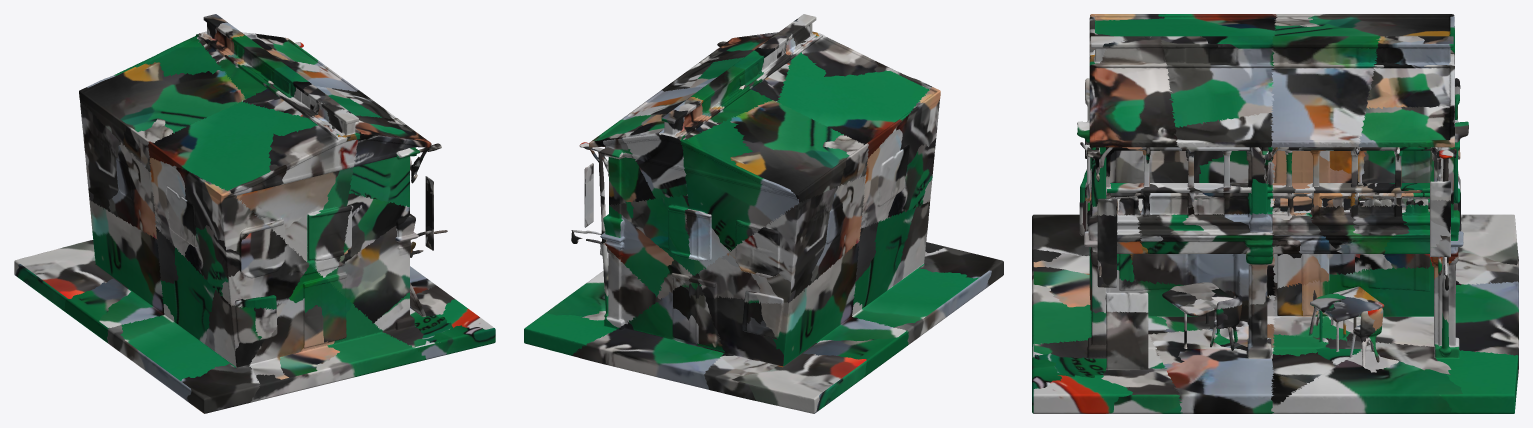
The model's file is NhaHoiAn.fbx.
3 views of the same model, side by side, from view 1: azimuth 30°, elevation 25°; view 2: azimuth 150°, elevation 25°; view 3: azimuth 270°, elevation 25° (orthographic). The views are drawn at different scales.
Visible parts, largest first — view 1: tripo_node_0e5f38fd-ea24-4416-ba28-e0b63cd12e13; view 2: tripo_node_0e5f38fd-ea24-4416-ba28-e0b63cd12e13; view 3: tripo_node_0e5f38fd-ea24-4416-ba28-e0b63cd12e13.
Part boxes in pixels (x1,y1,x2,y2): tripo_node_0e5f38fd-ea24-4416-ba28-e0b63cd12e13: (14, 14, 495, 413); tripo_node_0e5f38fd-ea24-4416-ba28-e0b63cd12e13: (524, 14, 1003, 413); tripo_node_0e5f38fd-ea24-4416-ba28-e0b63cd12e13: (1032, 14, 1518, 413).
Bounding box in the file's own units: 88 × 68.05 × 100.
